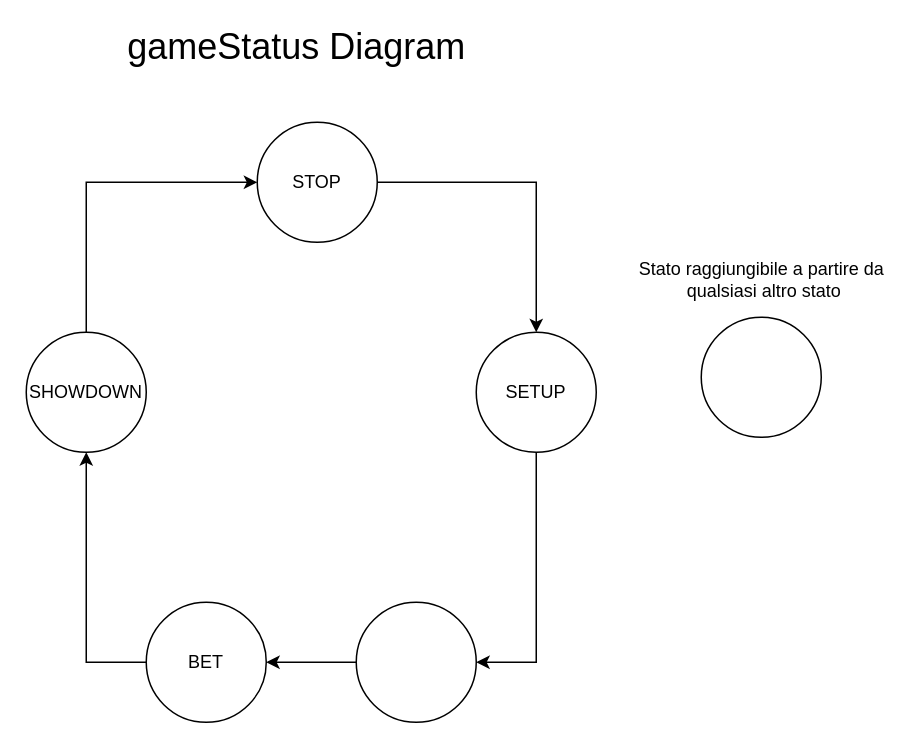
This 923x749 diagram has some shape labels left out. Here are the shapes that lost their labels. From the top down, the centre of each, then its label:
(760,376): END
(415,661): CHANGE
